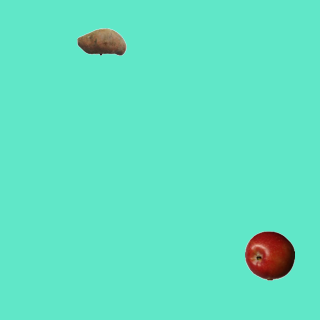Apple Braeburn: (244, 230, 294, 280)
Potato Sweet: (76, 16, 126, 66)
